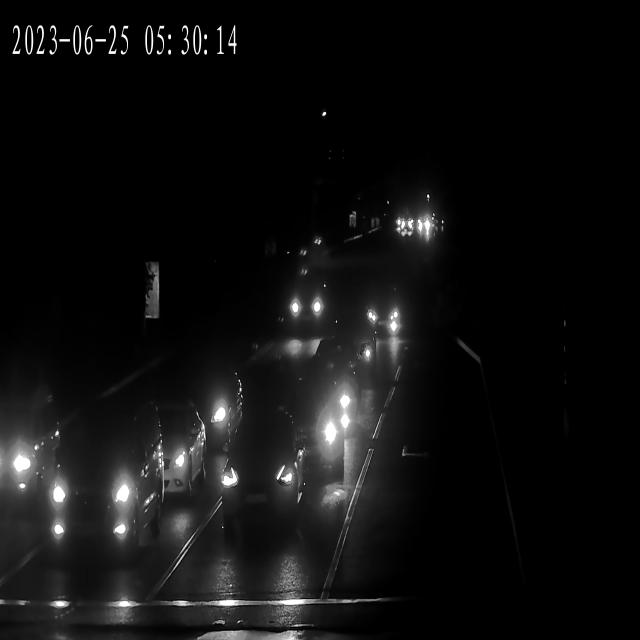Car: (48, 402, 160, 568), (220, 416, 301, 547), (144, 406, 212, 512), (282, 384, 346, 494), (0, 399, 57, 509), (185, 362, 247, 443), (307, 350, 363, 435), (332, 320, 381, 384), (362, 278, 403, 336), (289, 278, 325, 332), (418, 213, 436, 236), (394, 215, 411, 236)
